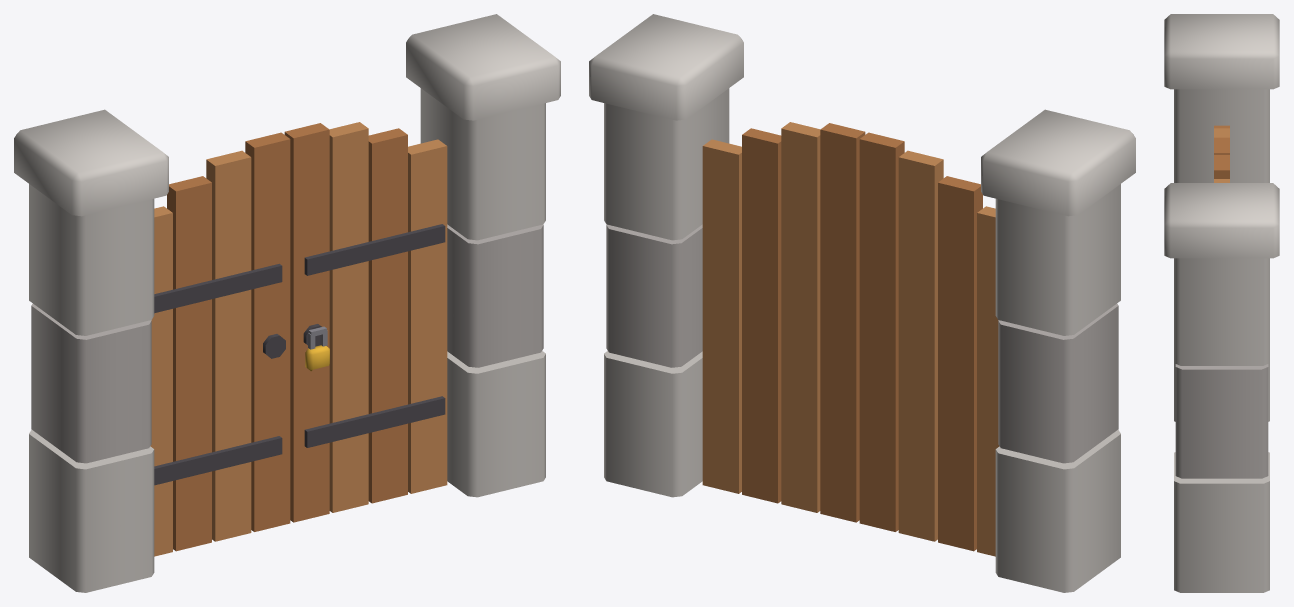
Rendered from gate_zoo.glb.
The picture shows the model from 3 angles, left to right: view 1: azimuth 30°, elevation 25°; view 2: azimuth 150°, elevation 25°; view 3: azimuth 270°, elevation 25°; orthographic projection. The views are drawn at different scales.
Visible parts, largest first — view 1: gate_zoo, leaf_r, leaf_l; view 2: gate_zoo, leaf_r, leaf_l; view 3: gate_zoo, leaf_l, leaf_r.
Boxes of the visible parts, <box> form: gate_zoo: <box>14,14,560,592</box>; leaf_r: <box>284,122,447,522</box>; leaf_l: <box>150,132,290,556</box>; gate_zoo: <box>589,14,1135,592</box>; leaf_r: <box>702,122,865,522</box>; leaf_l: <box>859,132,999,556</box>; gate_zoo: <box>1164,14,1279,592</box>; leaf_l: <box>1214,125,1229,154</box>; leaf_r: <box>1214,154,1229,182</box>.
Size of the model in its own units: 3.12 by 2.6 by 0.72.
Materials: 1 (1 with a texture image).
